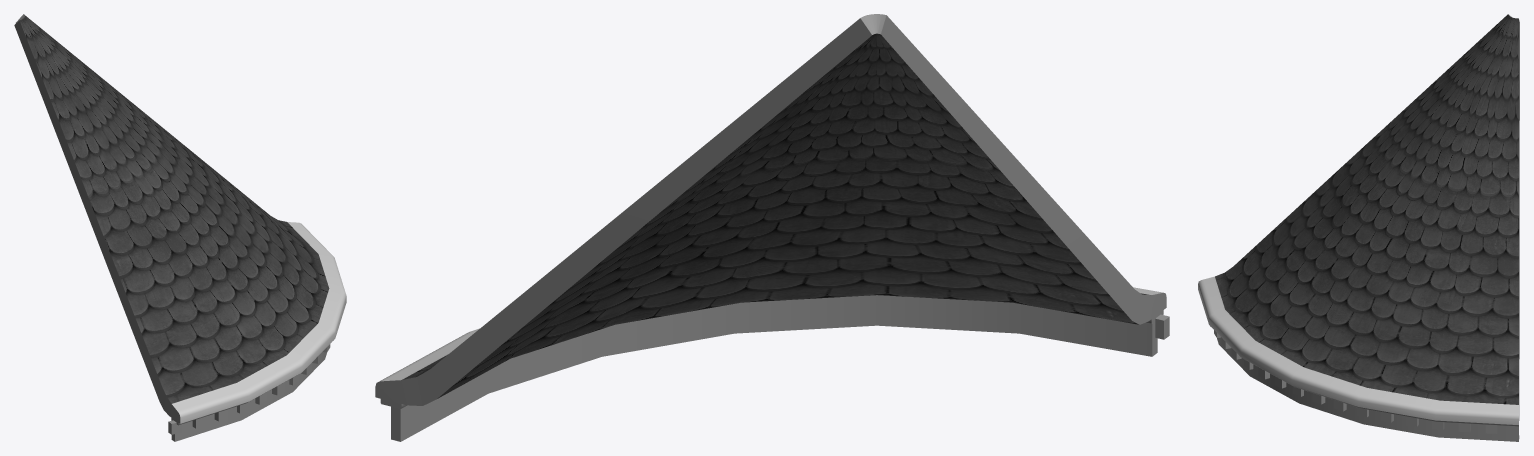
The model's file is SM_RoundRoof_A_002.FBX.
3 renders of one model, left to right at view 1: azimuth 30°, elevation 25°; view 2: azimuth 150°, elevation 25°; view 3: azimuth 270°, elevation 25°, orthographic. The views are drawn at different scales.
Parts seen in each view (by area): view 1: SM_RoundRoof_A_002; view 2: SM_RoundRoof_A_002; view 3: SM_RoundRoof_A_002.
Boxes of the visible parts, bbox=[...] form: SM_RoundRoof_A_002: bbox=[14, 14, 346, 441]; SM_RoundRoof_A_002: bbox=[375, 14, 1169, 441]; SM_RoundRoof_A_002: bbox=[1198, 14, 1519, 441].
Size of the model in its own units: 560 by 561 by 552.
